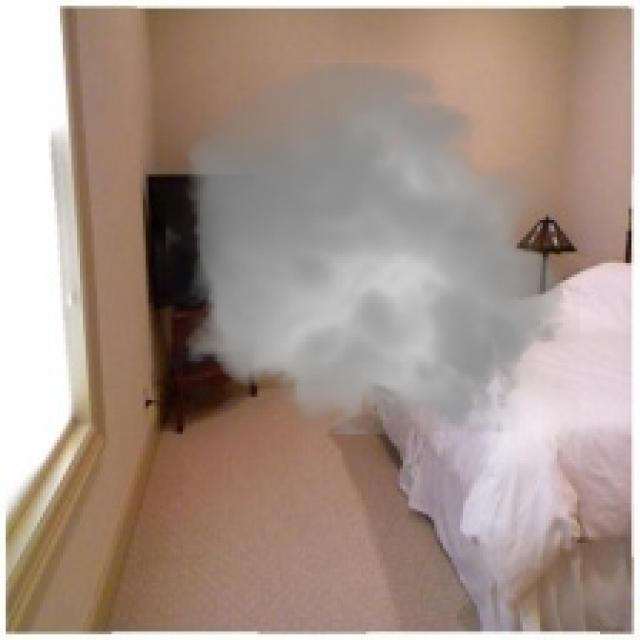Smoke: (165, 49, 580, 452)
